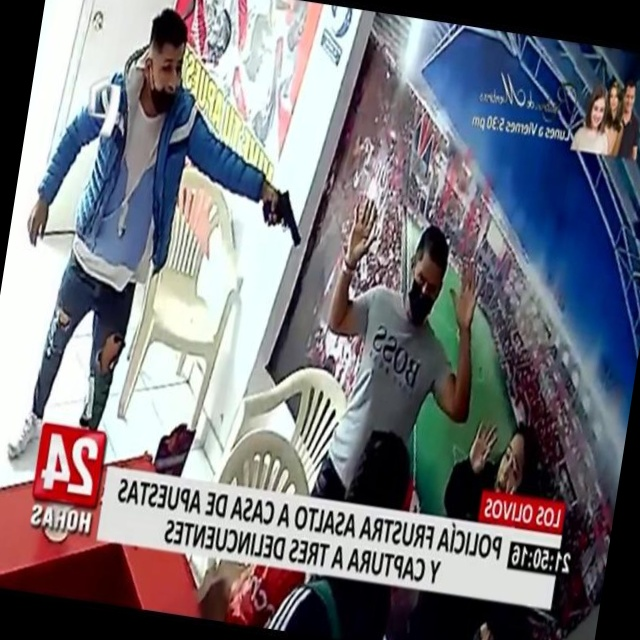gun: (252, 159, 315, 268)
